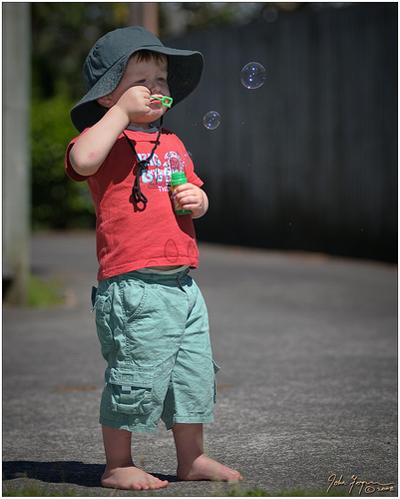person: (63, 22, 240, 496)
